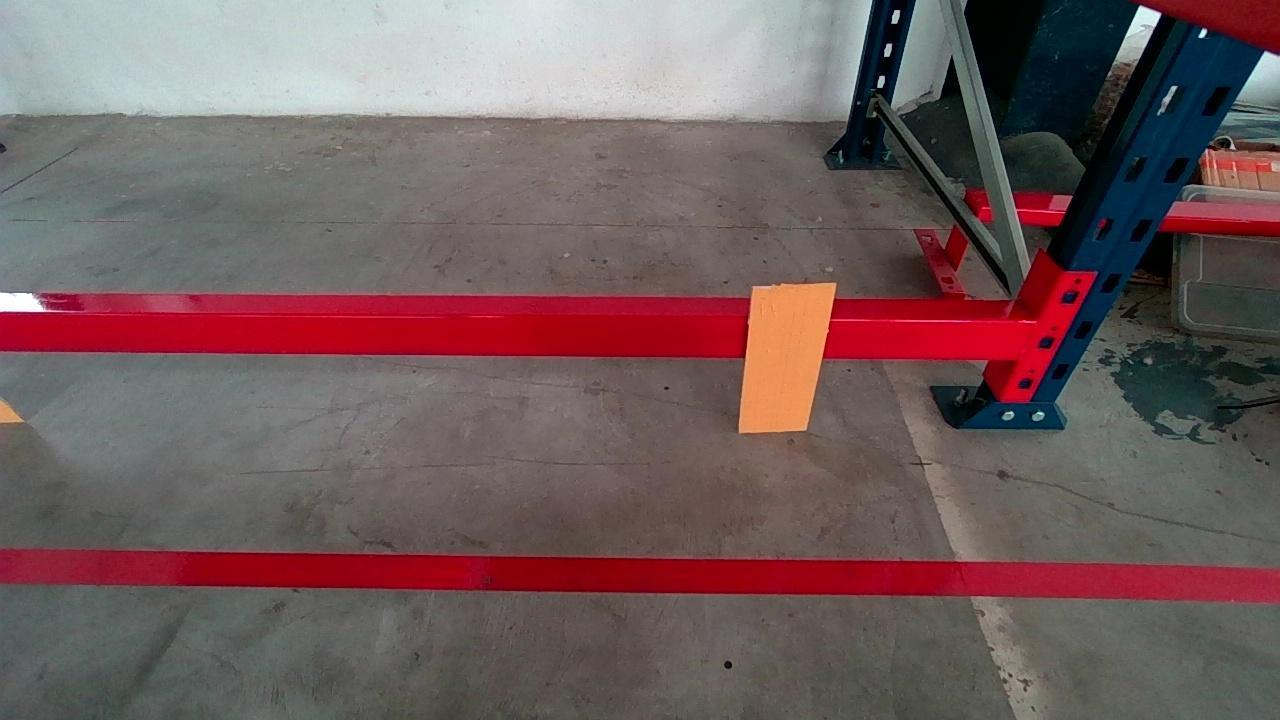h_rack: (4, 305, 1027, 360)
orange_strip: (740, 283, 834, 432)
red_line: (4, 542, 1277, 605)
